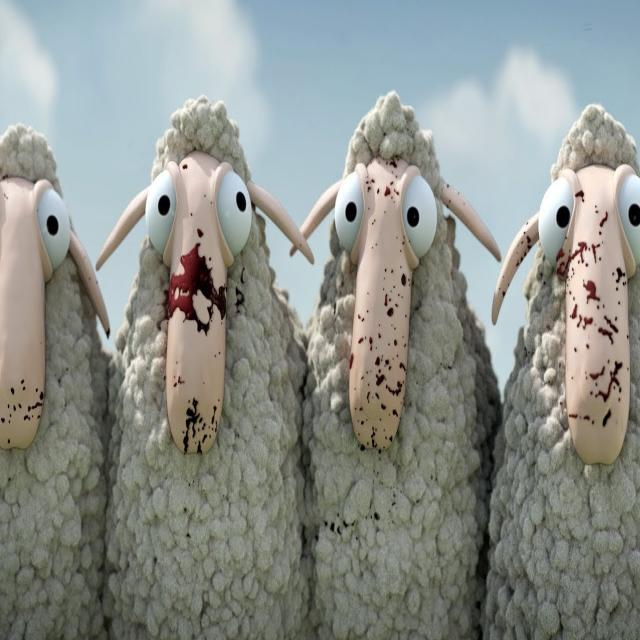Sheep: (102, 97, 318, 639), (302, 79, 498, 639), (491, 68, 640, 640), (0, 116, 114, 640)
